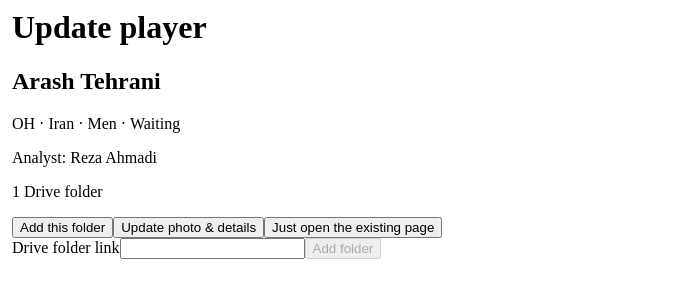
it: UpdatePlayer › explains where the player page will be
Click the tab "Just open the existing page" at (353, 227), box 264,217 -> 442,238
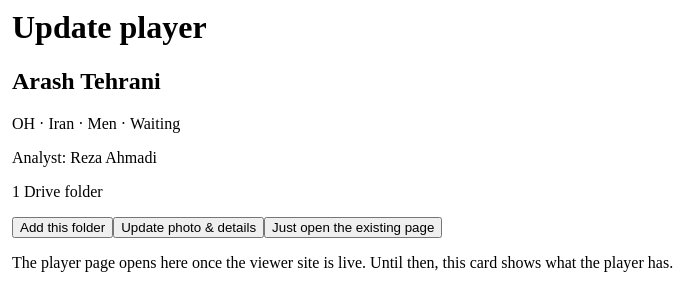
Check: the text "viewer site" is shown, box 12,254 -> 673,271
